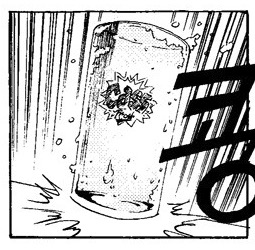beer: (66, 18, 196, 225)
cup: (68, 16, 191, 226)
